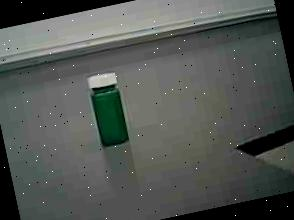Bottle C: (72, 65, 142, 159)
